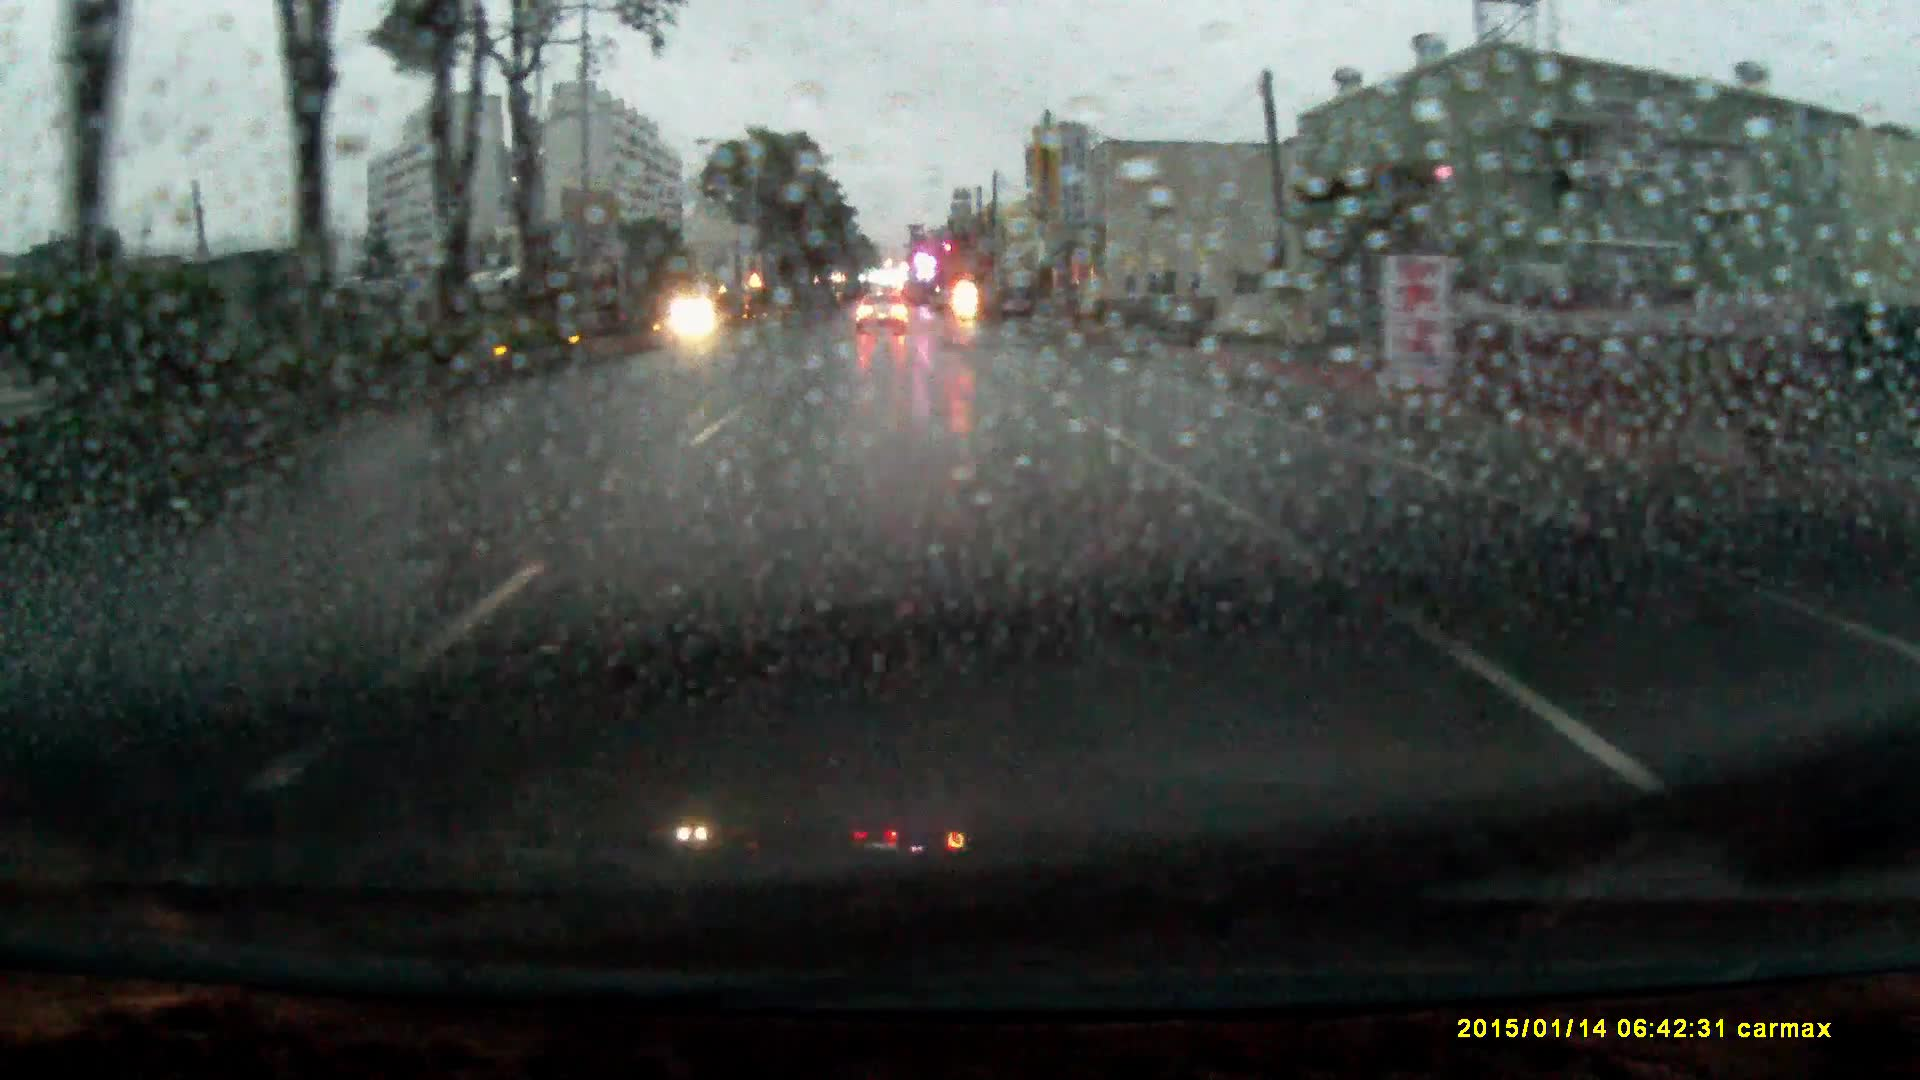vehicle: (855, 297, 907, 342)
